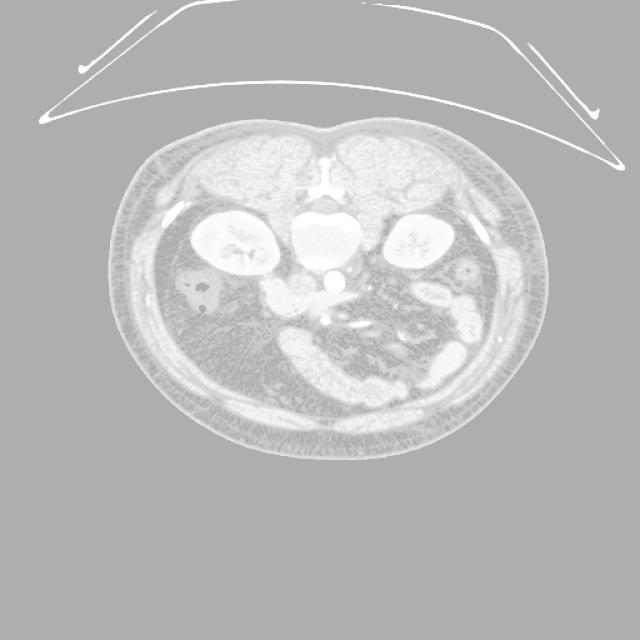NORMAL: (80, 93, 552, 447)
